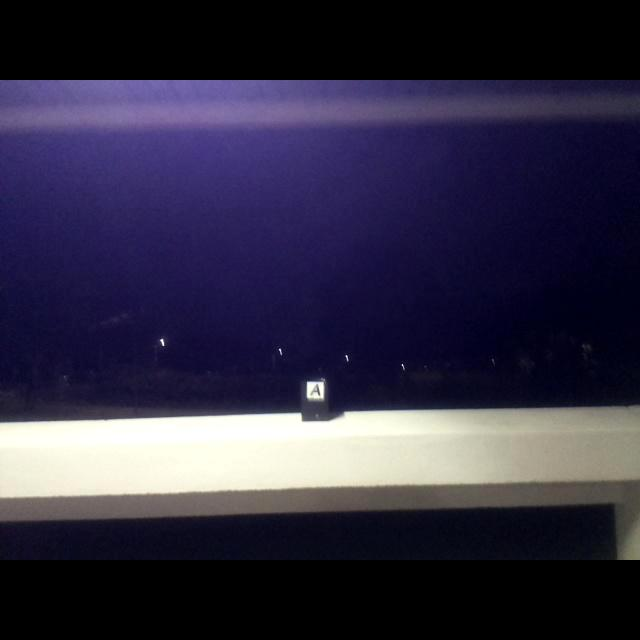A: (309, 383, 321, 396)
